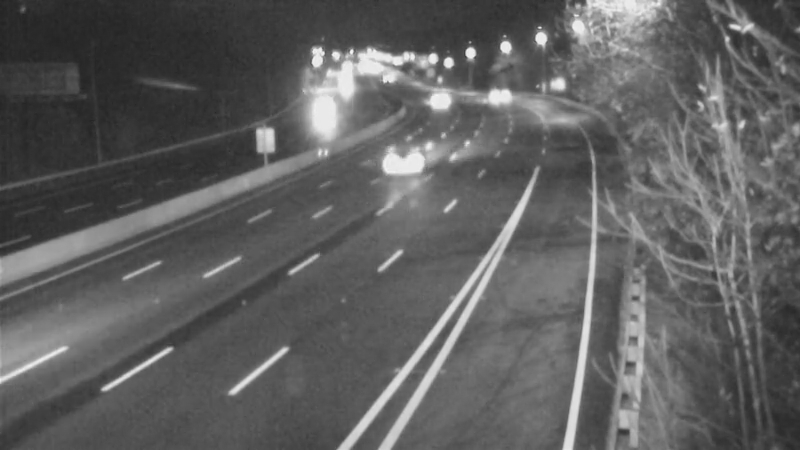vehicle: (357, 124, 437, 204), (471, 67, 521, 117), (420, 76, 470, 126), (299, 81, 349, 131)
